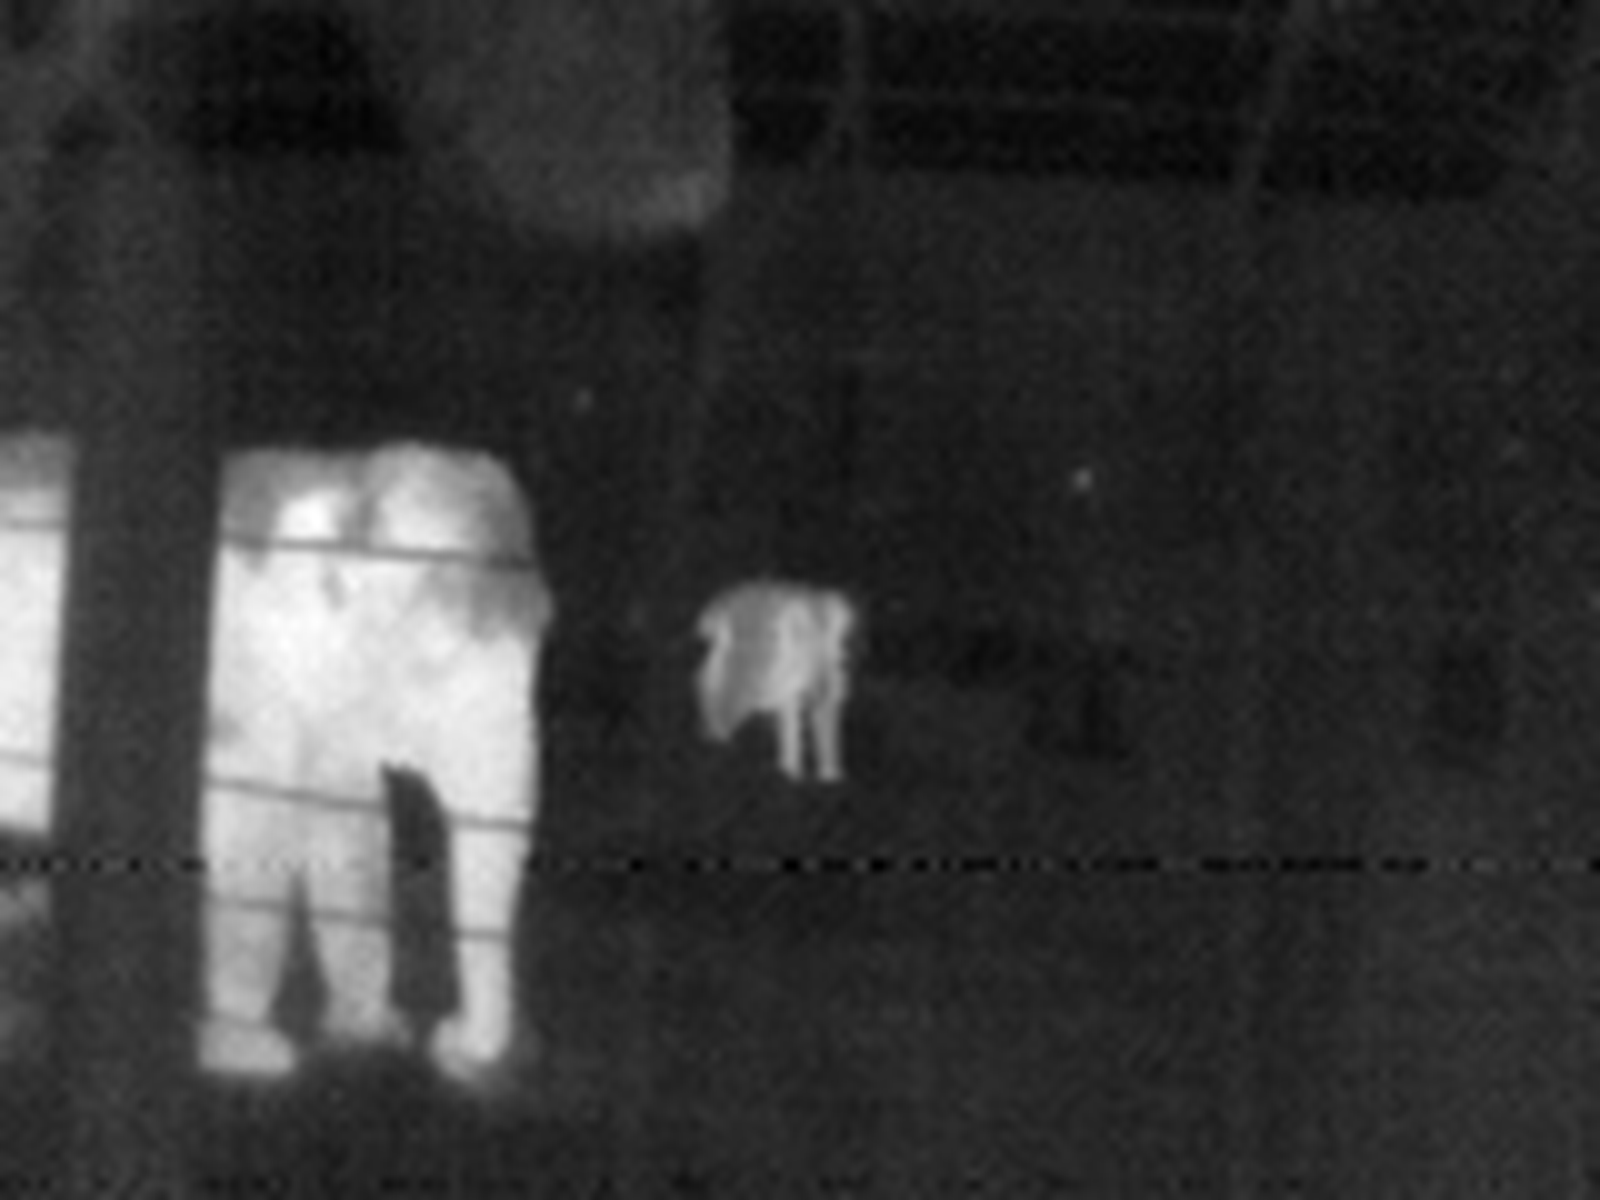elephant: (1, 395, 854, 1076)
